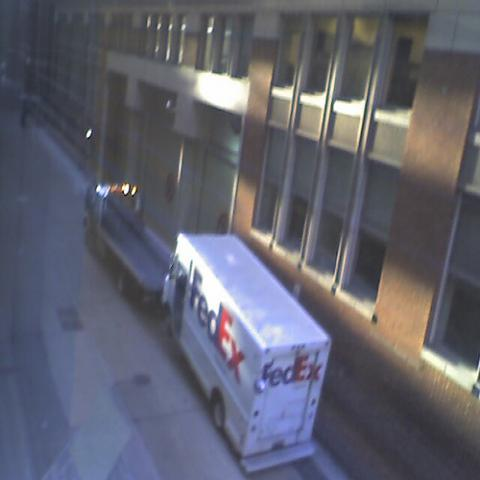truck: (160, 233, 333, 472), (81, 181, 174, 306)
